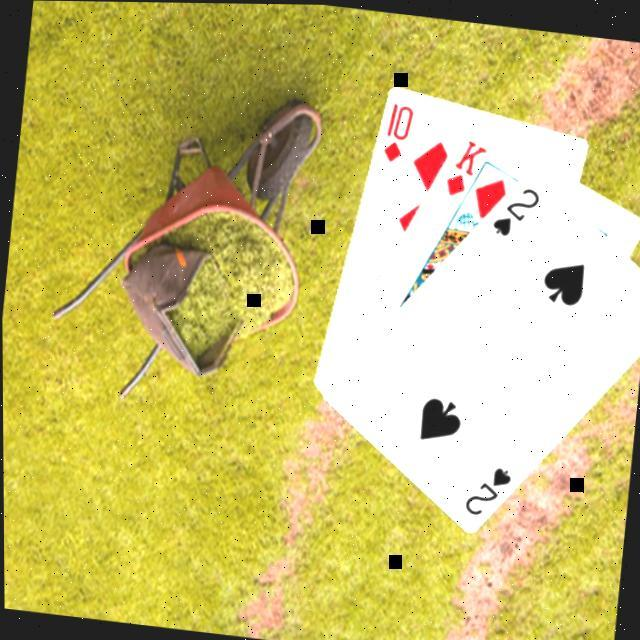10D: (378, 97, 418, 166)
2S: (459, 458, 516, 522), (488, 178, 544, 242)
KD: (441, 133, 491, 202)
